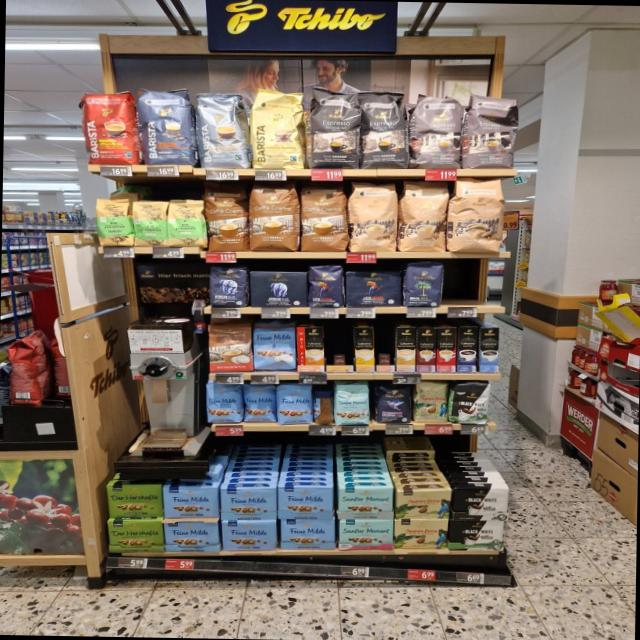AB Bohne: (208, 263, 248, 307)
AB Gemahlen: (248, 270, 308, 308)
Athiopien Bohne: (93, 196, 133, 246)
Athiopien Gemahlen: (167, 198, 206, 247), (132, 200, 168, 248)
BW Bohne: (404, 260, 444, 308), (452, 381, 492, 425)
BW Gemahlen: (452, 486, 511, 520), (448, 519, 505, 553)
Barista CB: (250, 87, 304, 170)
Barista CC: (194, 92, 252, 168)
Barista Espresso: (136, 87, 198, 166)
Barista Kolumbien: (80, 90, 140, 167)
C Fino Bohne: (376, 384, 412, 424)
CC Mild: (451, 180, 504, 252), (347, 180, 399, 252), (401, 180, 448, 252)
CC Vollmundig: (206, 322, 254, 372)
CC Vollmundig 36 Pads: (251, 180, 300, 252), (300, 182, 348, 252), (204, 181, 248, 251)
Colombia BB Bohne: (414, 381, 448, 423)
Colombia BB Gemahlen: (394, 488, 452, 519), (394, 518, 448, 550)
Empty Shelf: (445, 260, 504, 306), (325, 327, 353, 364), (374, 326, 394, 366)
Espresso Aromatisch: (465, 92, 521, 168), (410, 92, 462, 170)
Espresso S Art: (308, 82, 361, 168), (356, 90, 412, 168)
FM 36 Pads: (252, 319, 296, 370)
FM Bohne: (204, 382, 242, 424), (277, 384, 313, 424), (242, 383, 276, 423)
FM Gemahlen: (162, 486, 220, 520), (162, 519, 220, 553), (220, 487, 278, 520), (278, 487, 334, 520), (220, 520, 276, 552), (279, 519, 336, 550)
FM Instant: (312, 388, 334, 425)
Herzhatfe Mundig: (105, 520, 164, 554), (105, 484, 163, 518)
LG Bohne: (307, 262, 345, 308)
LG Gemahlen: (344, 270, 402, 308)
SM Bohne: (334, 381, 371, 426)
SM Gemahlen: (339, 488, 394, 520), (338, 520, 393, 552)
Simo CCMild bigpack: (352, 328, 376, 372)
Simo CCVollmundig: (296, 327, 324, 372)
Simo Decaff: (396, 326, 416, 372)
Simo Es Brazil: (437, 326, 456, 372)
Simo Es Caramel: (416, 327, 436, 372)
Simo Es Kraft: (457, 326, 476, 372)
Simo Es Vanilla: (478, 327, 499, 372)
